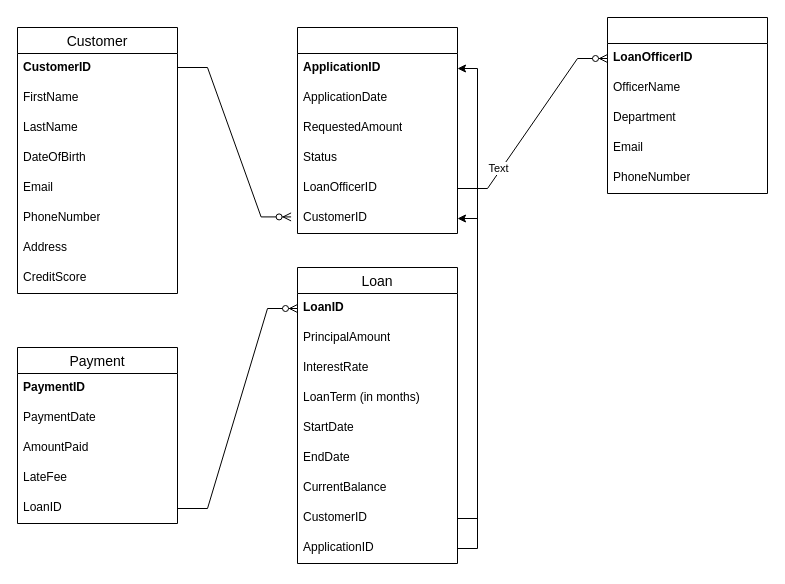
This 785x584 diagram has some shape labels left out. The shapes that lost their labels are listed below. From the top down, each one's box as (x1, y1, x2, y2) in pixels, then its label:
(606, 16, 768, 194): BankOfficer
(296, 26, 458, 234): CreditApplication
